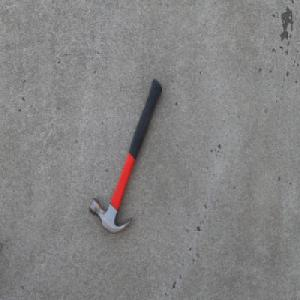Hammer: (88, 77, 162, 235)
